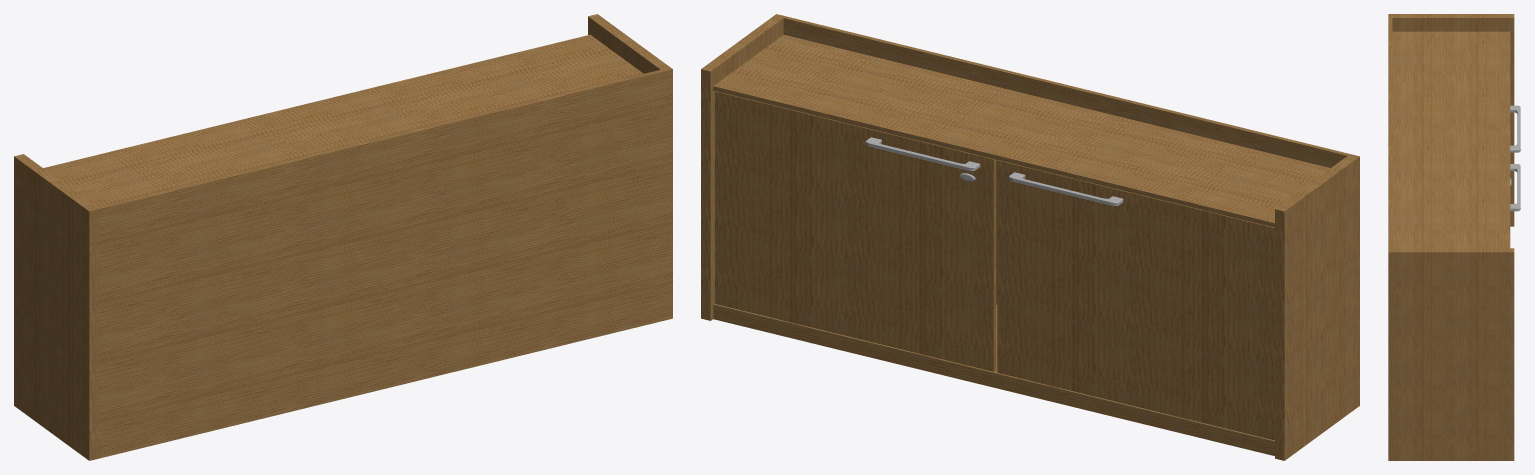
The model's file is mueblecito2.fbx.
3 views of the same model, side by side, from view 1: azimuth 30°, elevation 25°; view 2: azimuth 150°, elevation 25°; view 3: azimuth 270°, elevation 25° (orthographic). The views are drawn at different scales.
Parts seen in each view (by area): view 1: Rectangle9; view 2: Rectangle9; view 3: Rectangle9.
Boxes of the visible parts, x1=… form: Rectangle9: x1=14, y1=14, x2=672, y2=460; Rectangle9: x1=701, y1=14, x2=1359, y2=460; Rectangle9: x1=1388, y1=14, x2=1520, y2=460.
Bounding box in the file's own units: 1.97 × 0.806 × 0.4641.
3 materials, 1 textured.
